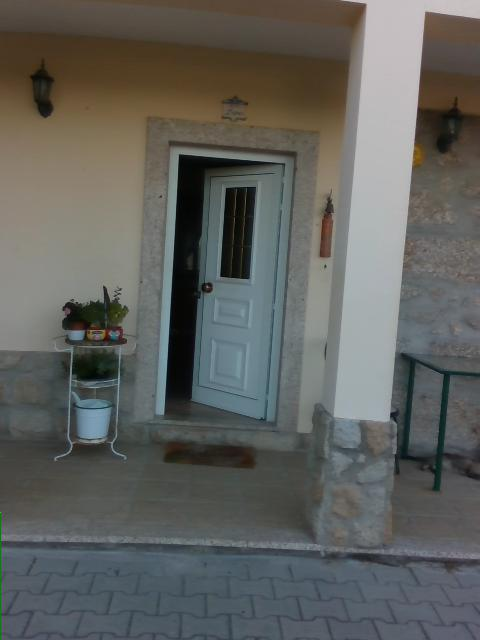semi_door: (153, 141, 297, 427)
